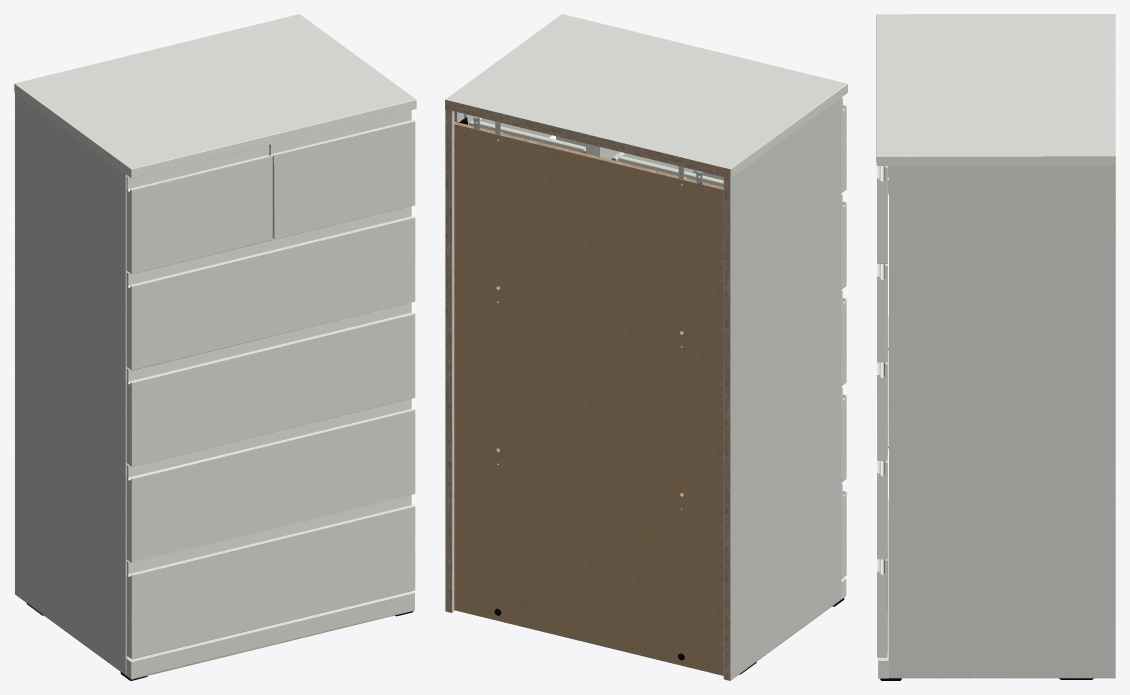
3 renders of one model, left to right at view 1: azimuth 30°, elevation 25°; view 2: azimuth 150°, elevation 25°; view 3: azimuth 270°, elevation 25°, orthographic. The views are drawn at different scales.
Visible parts, largest first — view 1: ASY_ART_70627545_S01_NV01; view 2: ASY_ART_70627545_S01_NV01; view 3: ASY_ART_70627545_S01_NV01.
Part boxes in pixels (x1,y1,x2,y2): ASY_ART_70627545_S01_NV01: (14, 14, 416, 680); ASY_ART_70627545_S01_NV01: (445, 14, 847, 680); ASY_ART_70627545_S01_NV01: (876, 14, 1115, 680).
Size of the model in its own units: 0.699 by 1.2 by 0.4963.
1 material, 1 textured.
